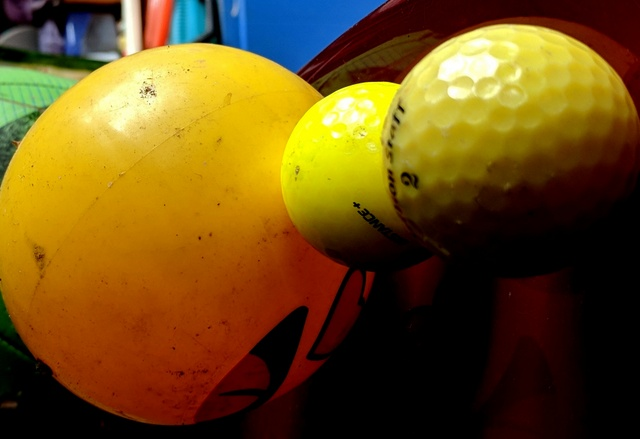ball: (279, 81, 446, 275)
